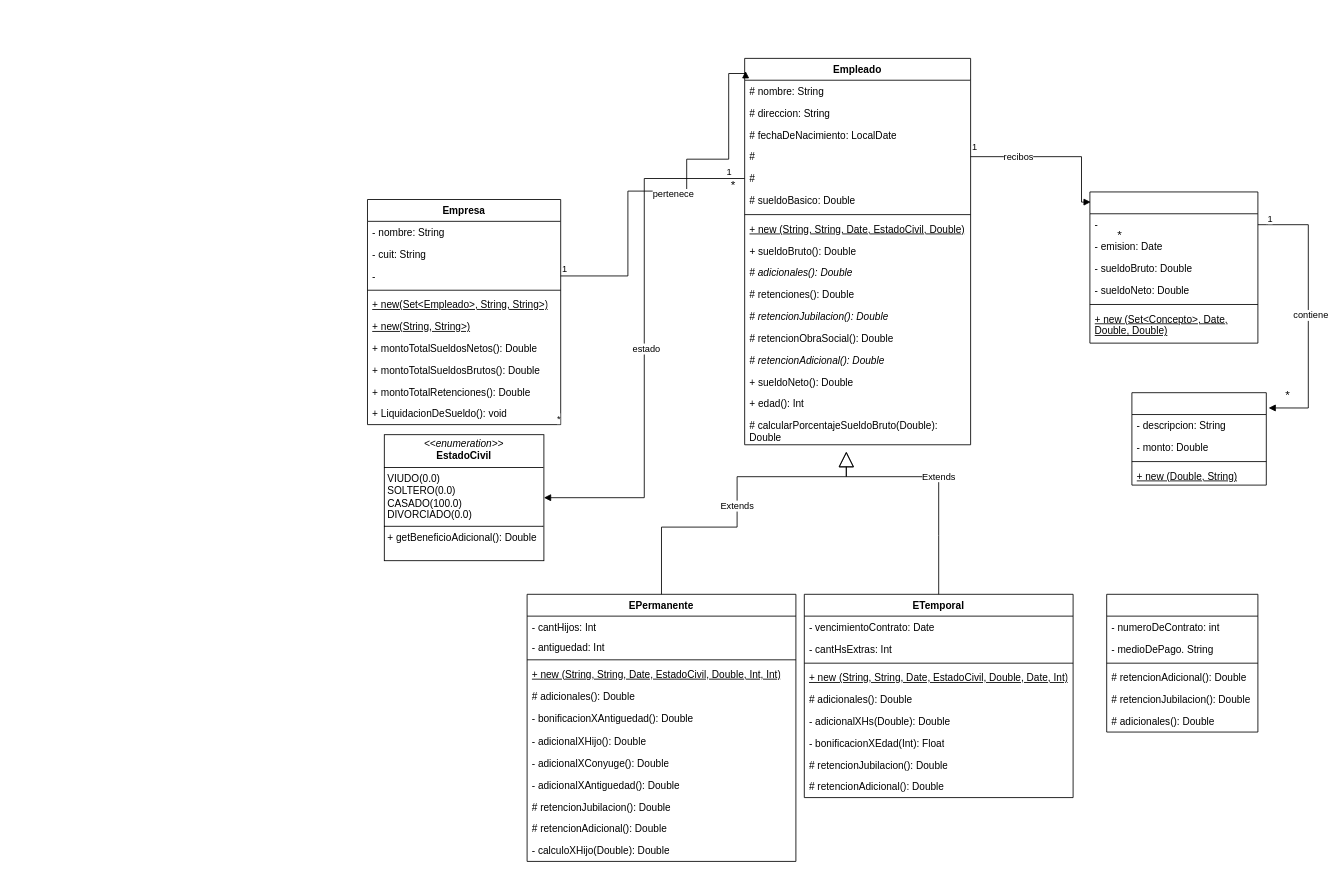
Image size: 1342x878. Some labels were removed from this diagram. Here are the shapes that lost their labels. From the top down, the box of each, then its label:
(1089, 191, 1258, 343): ReciboDeHaberes
(1131, 392, 1266, 485): Concepto
(1106, 593, 1258, 732): EContratado
